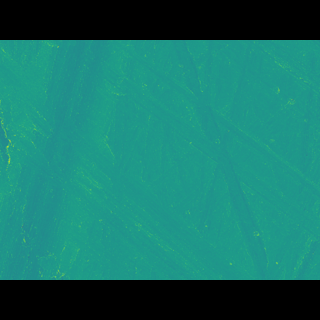Loch: (0, 69, 269, 250), (0, 69, 123, 249)
